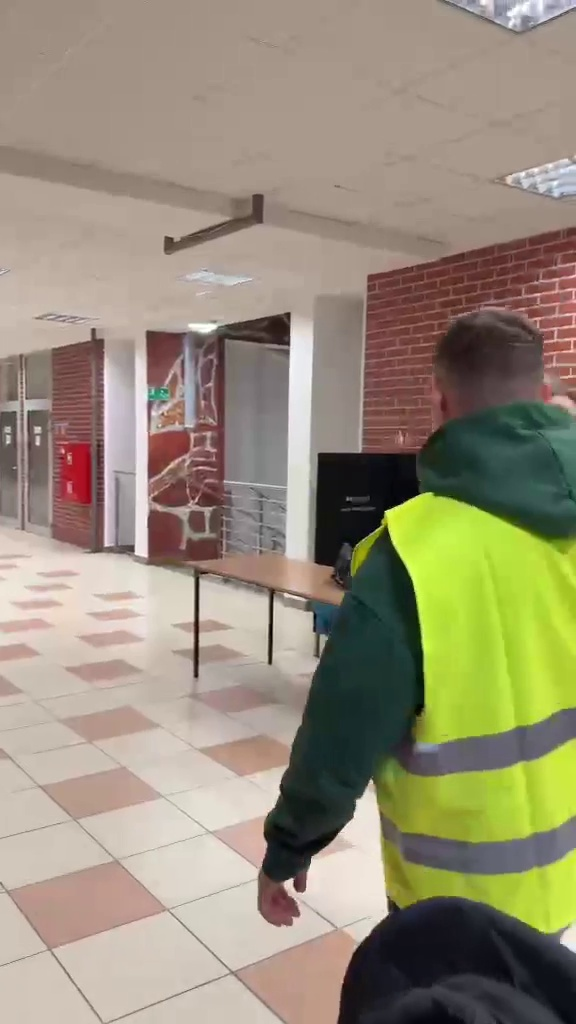vest: (270, 308, 575, 935)
